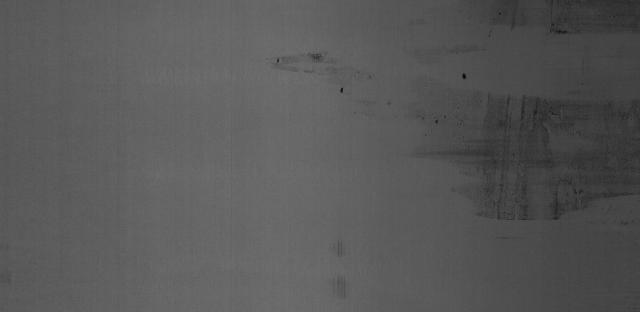inclusion: (476, 98, 616, 225), (507, 2, 627, 33), (451, 65, 477, 89), (427, 113, 458, 129), (332, 79, 355, 98), (308, 47, 324, 70), (270, 53, 290, 70)
